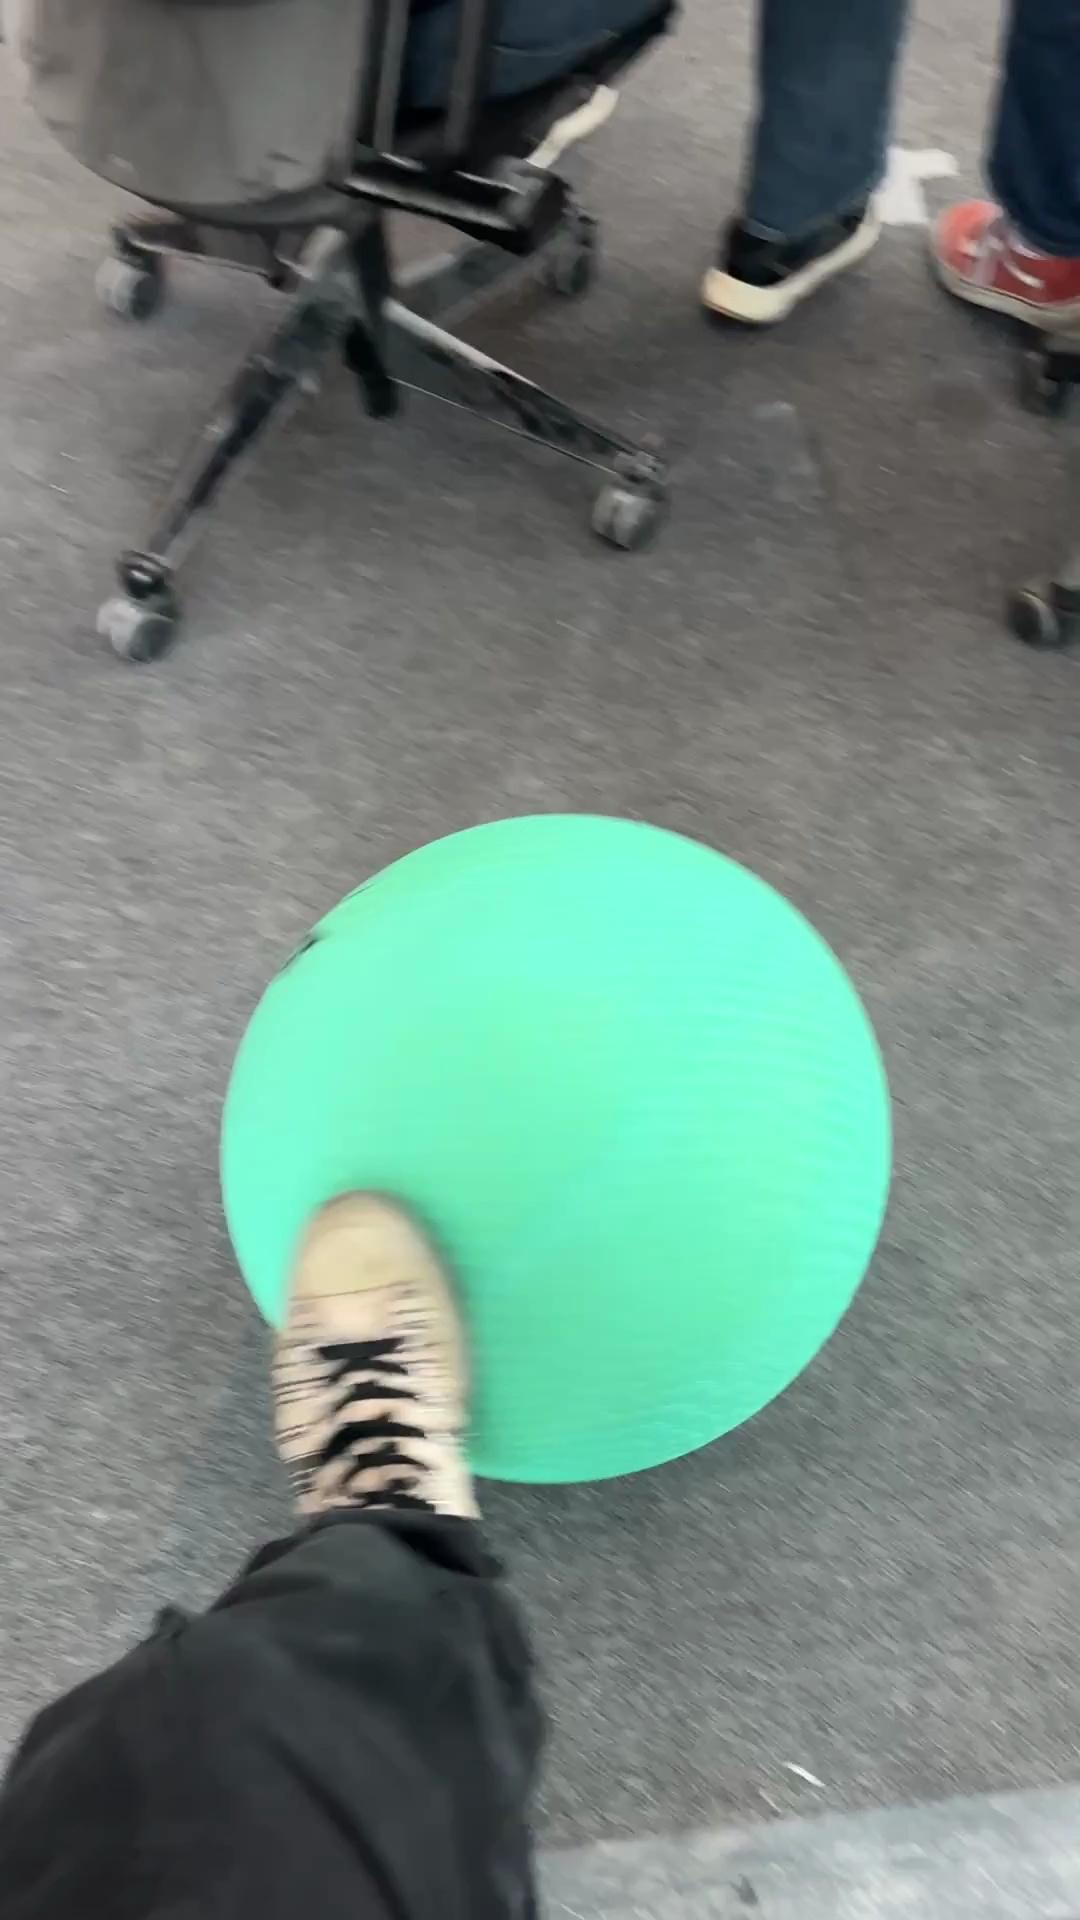ALGAE: (216, 808, 895, 1486)
